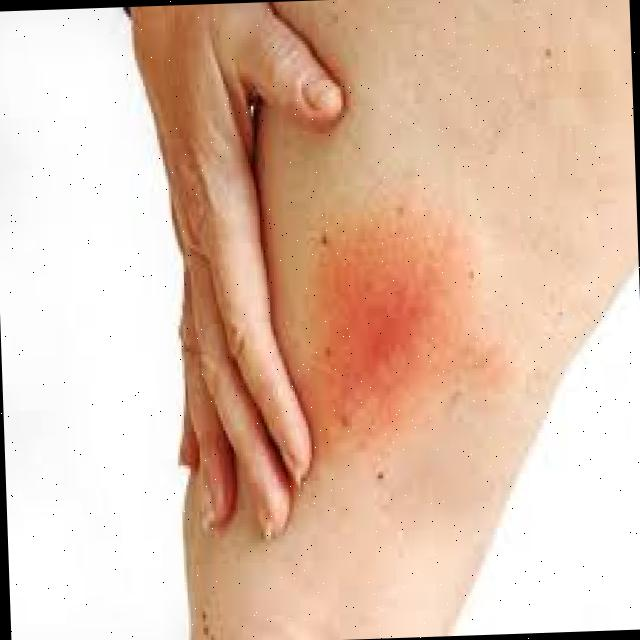kene: (306, 214, 483, 447)
